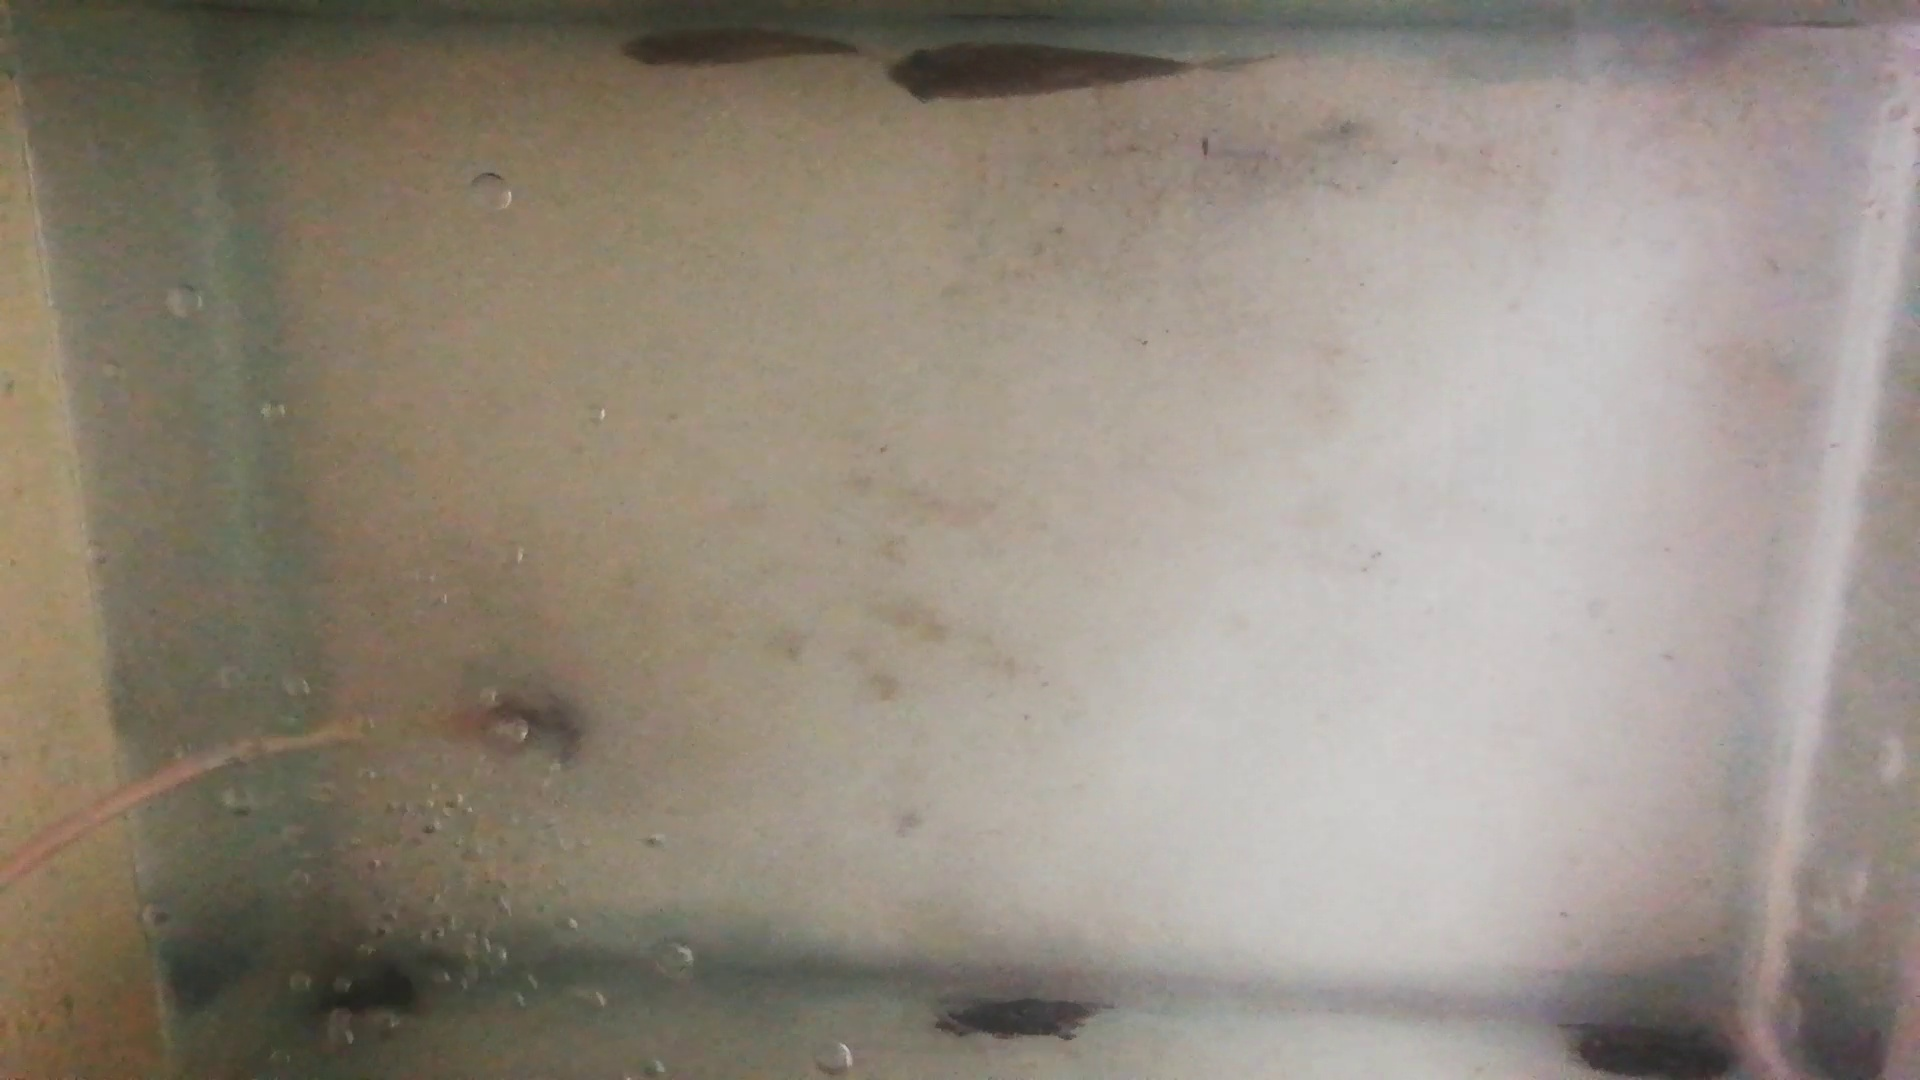fish: (880, 40, 1189, 100), (611, 24, 855, 69)
